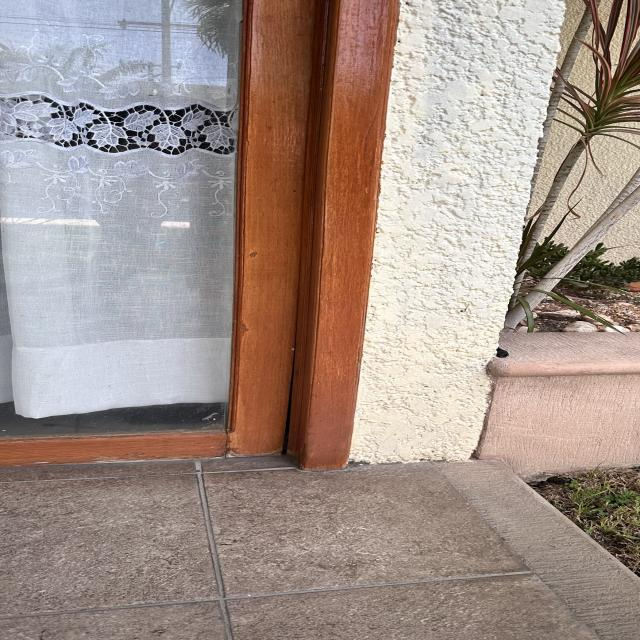hidden camera: (498, 353, 509, 358)
